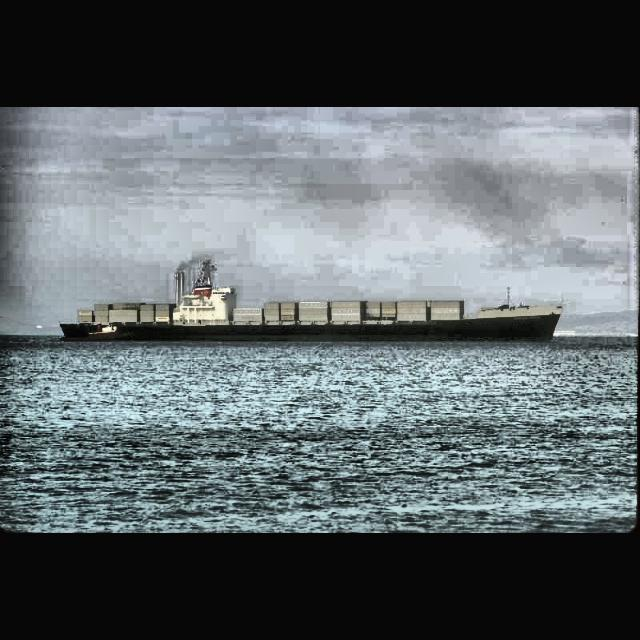container: (58, 260, 566, 344)
